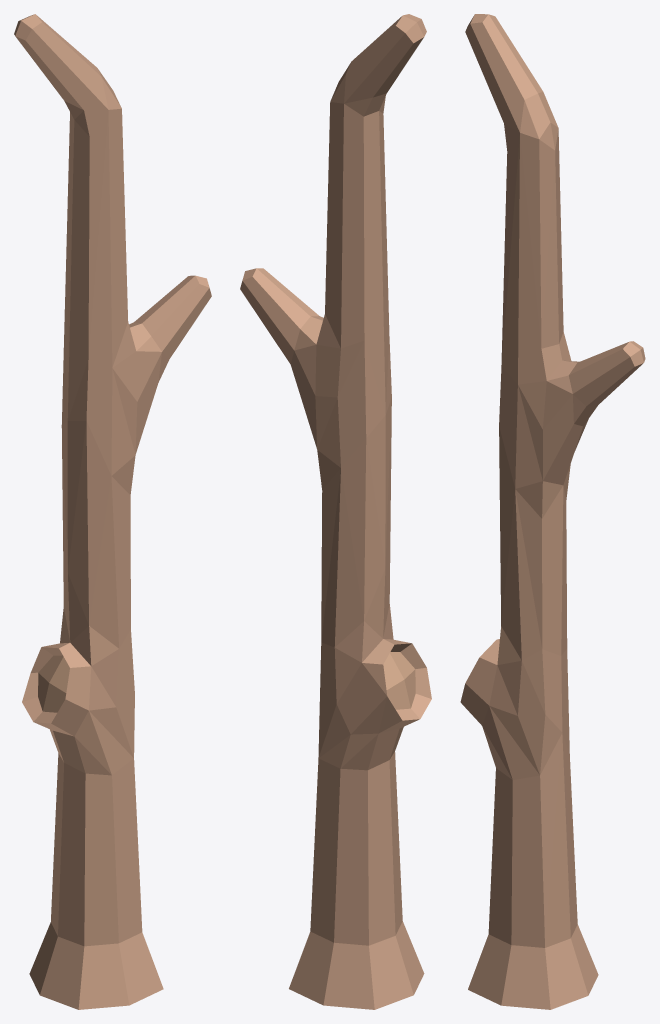
The model's file is trunk15.fbx.
The picture shows the model from 3 angles, left to right: view 1: azimuth 30°, elevation 25°; view 2: azimuth 150°, elevation 25°; view 3: azimuth 330°, elevation 25°; orthographic projection. The views are drawn at different scales.
Visible parts, largest first — view 1: trunk15; view 2: trunk15; view 3: trunk15.
Part boxes in pixels (x1=…): trunk15: x1=14, y1=14, x2=211, y2=1009; trunk15: x1=240, y1=14, x2=431, y2=1009; trunk15: x1=460, y1=14, x2=645, y2=1009.
Size of the model in its own units: 56.49 by 282 by 34.11.
